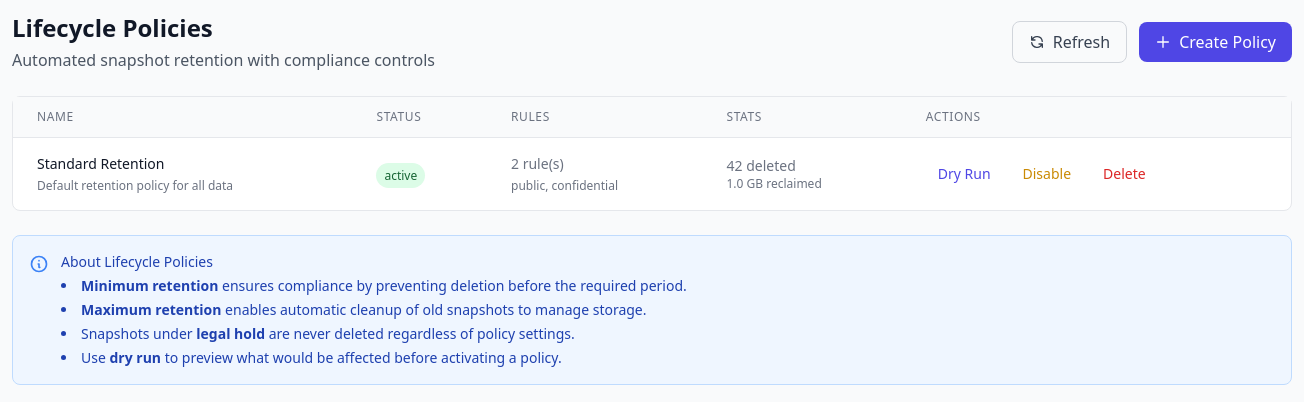
Scenario: LifecyclePolicies › cancels delete on cancel click
Click the button "Delete" at point(1124, 174), box top-left (1091, 160), bottom-right (1158, 188)
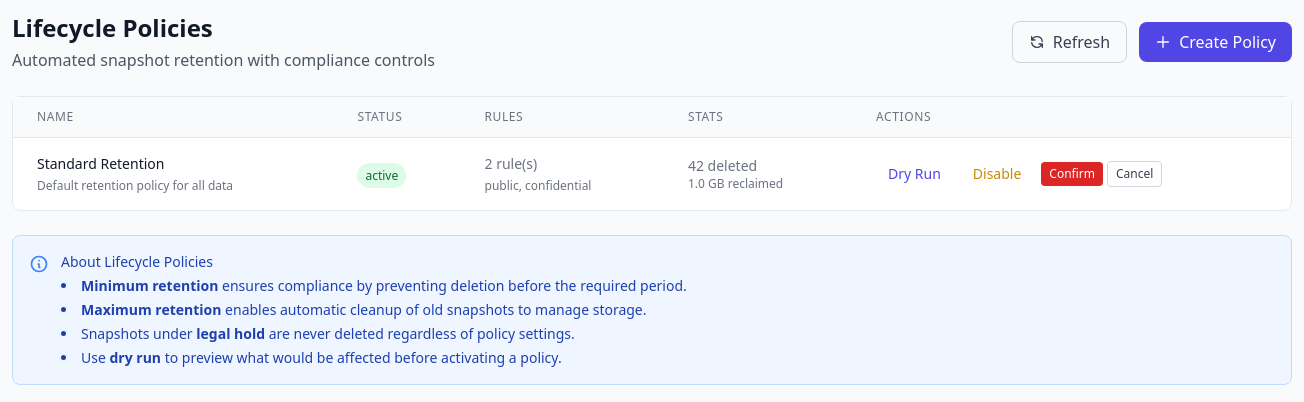
Click the button "Cancel" at point(1135, 174), box top-left (1107, 161), bottom-right (1162, 187)
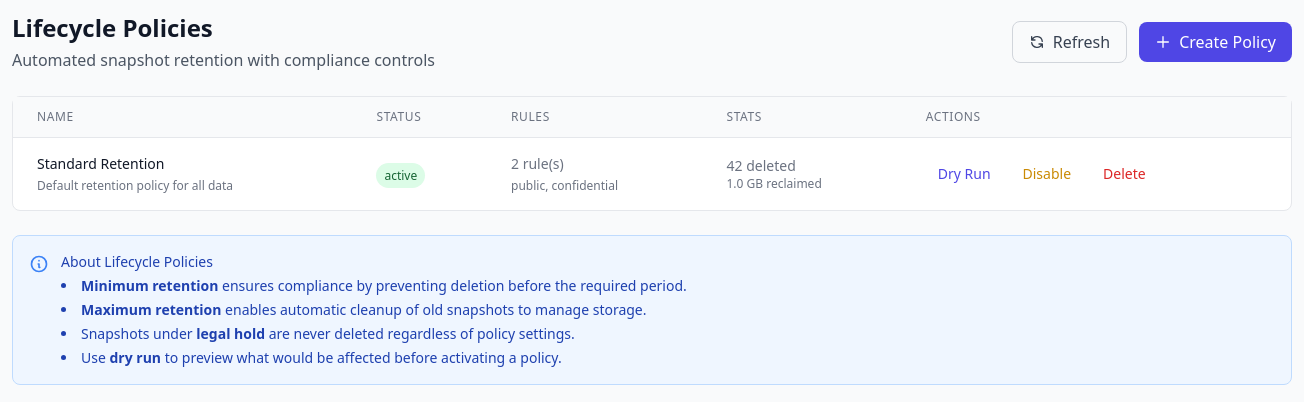
Check: the button "Confirm" is gone
